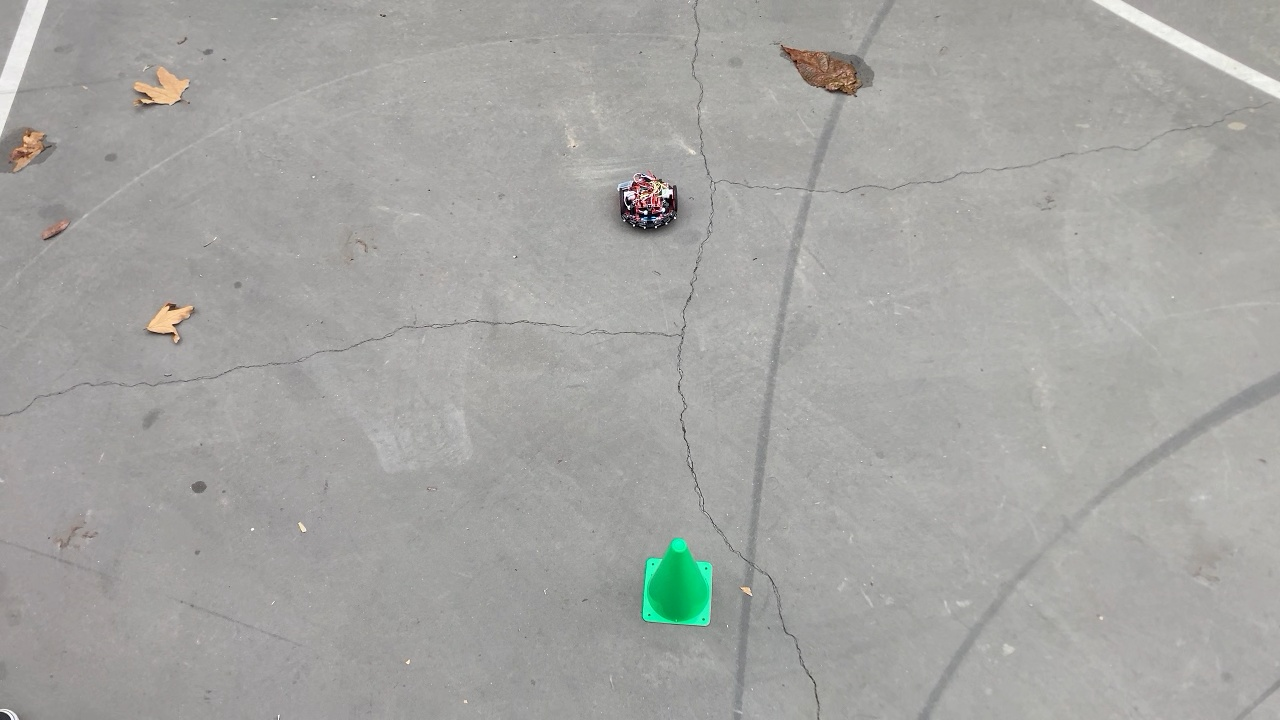green_cone: (637, 535, 717, 629)
robot: (611, 170, 685, 235)
